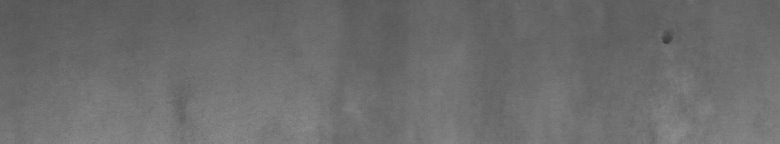fi: (658, 31, 676, 52)
